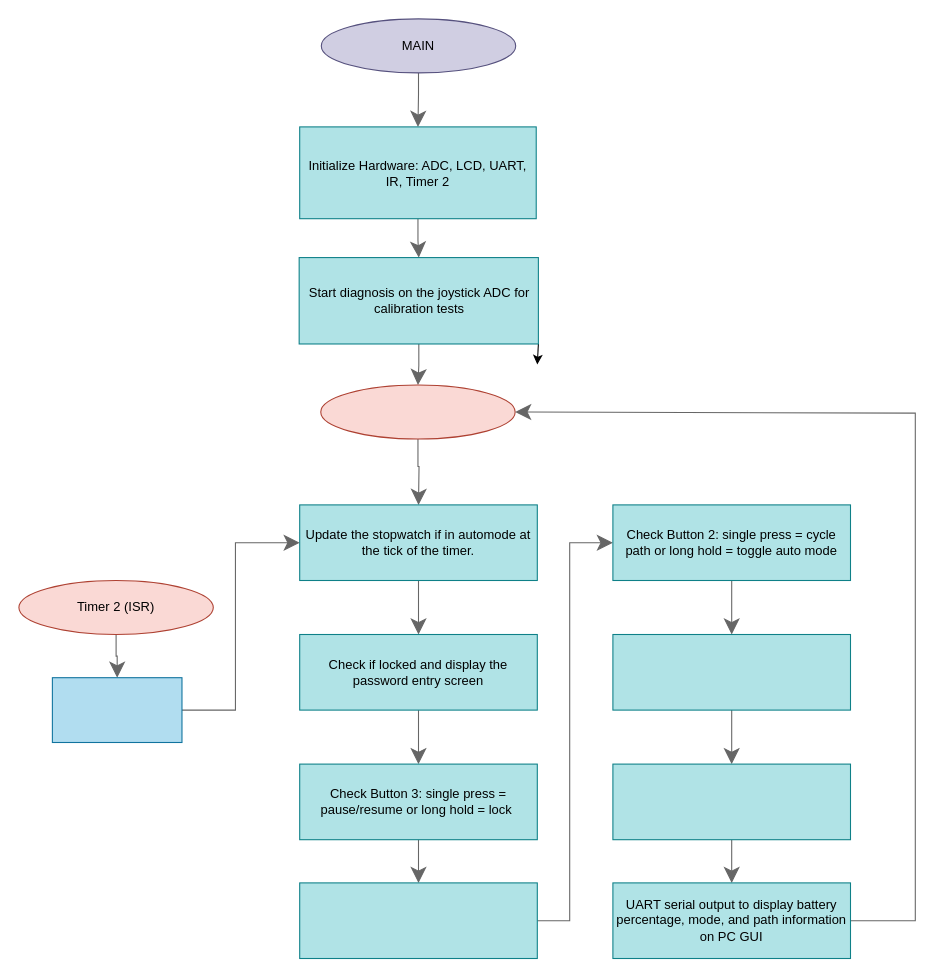
This 949x977 diagram has some shape labels left out. Here are the shapes that lost their labels. From the top down, the centre of each, then its label:
the point at 417,411: Forever
the point at 731,671: Check Joystick press command: send command rotate 180 through IR if pressed
the point at 116,709: Set tick flag
the point at 731,801: Read joystick ADC and send proportional command through IR in manual mode
the point at 418,920: Check Button 1: single press = horn or long hold = program mode
